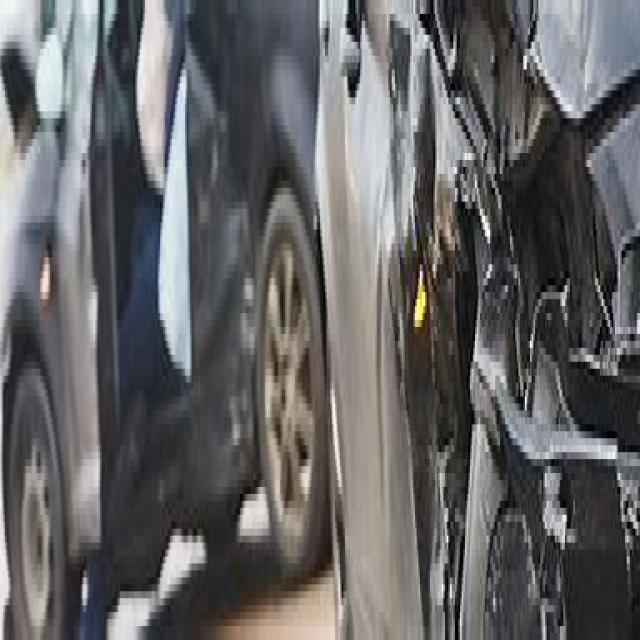Accident: (332, 32, 640, 640)
